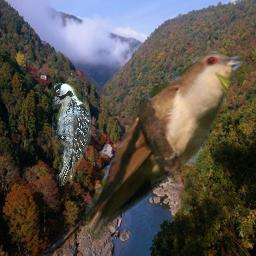Cuckoo: (80, 51, 245, 245)
Woodpecker: (52, 83, 91, 186)
